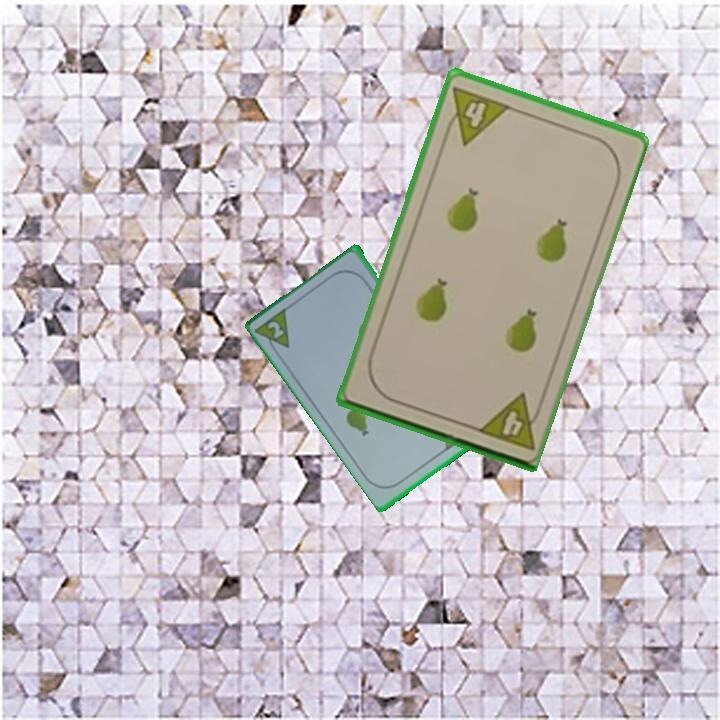2p: (264, 317, 287, 341)
4p: (439, 83, 513, 148), (472, 390, 546, 453)
